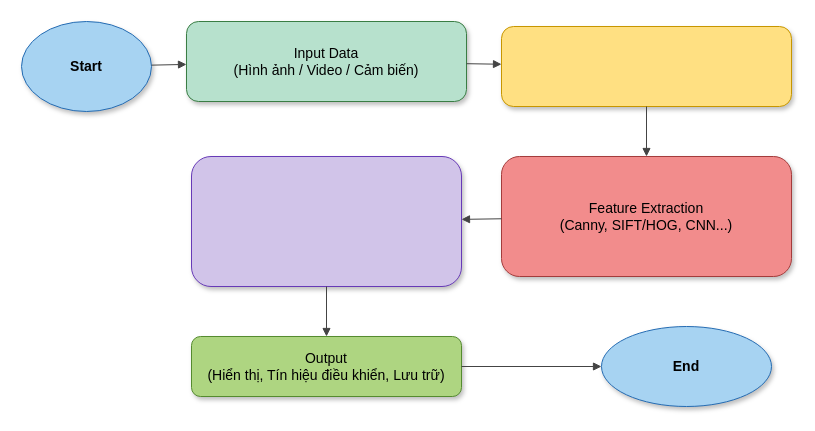
The diagram is 815 pixels wide and 431 high, and some of its shapes have lost their labels. Here are the shapes that lost their labels. From the top down, the centre of each, then its label:
At point 647,68: "Pre-processing (Giảm nhiễu, Chuẩn hóa, Resize...)".
At point 327,223: "Analysis & Recognition (Classification, Detection, Segmentation...)".
